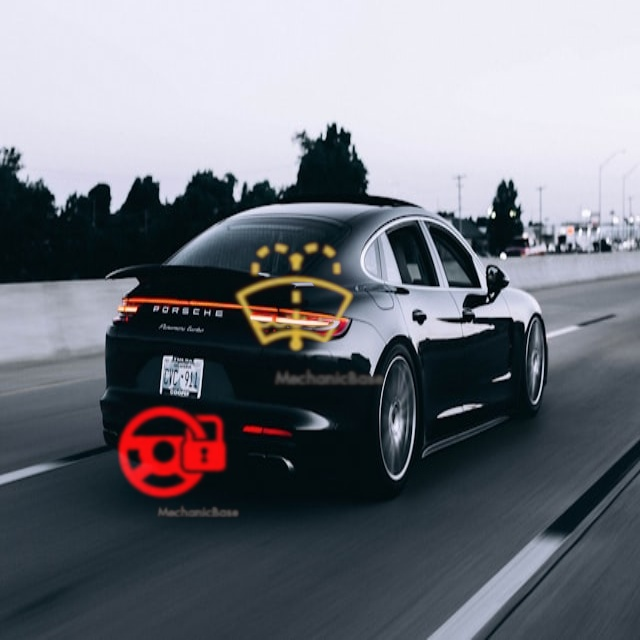symbol: (201, 204, 391, 394), (102, 382, 244, 524)
